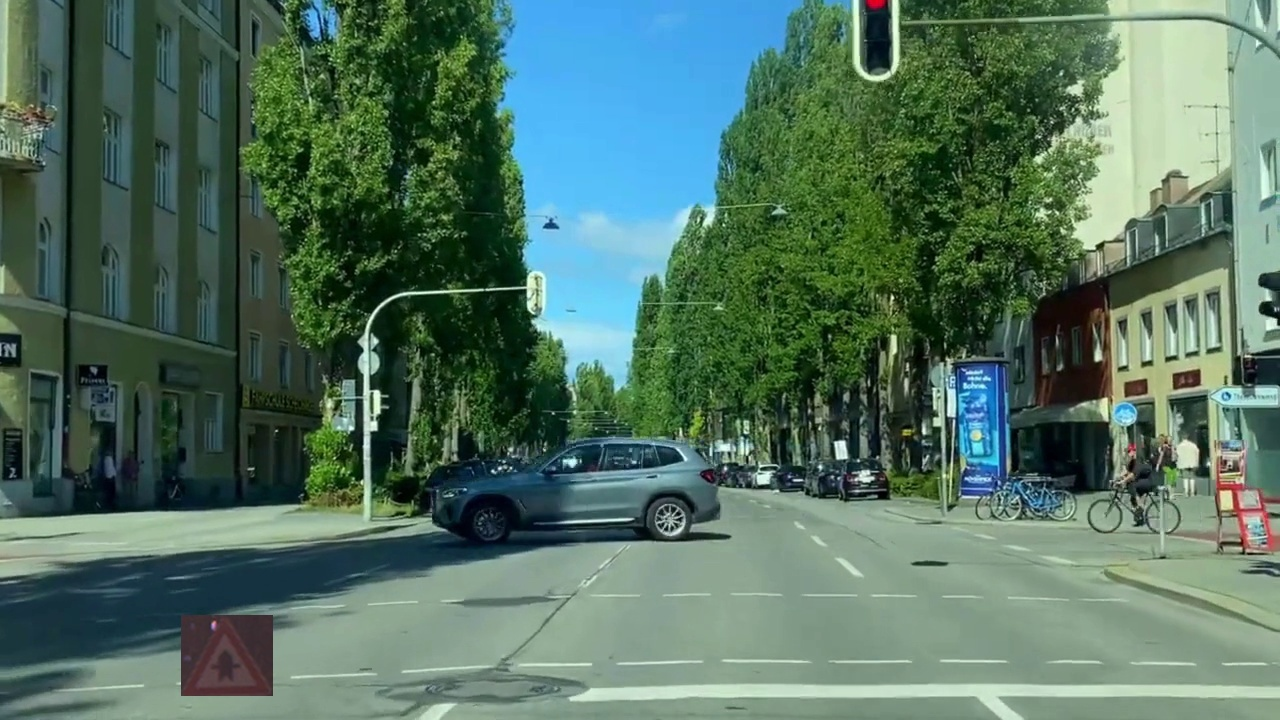Right-of-way: (181, 615, 273, 696)
